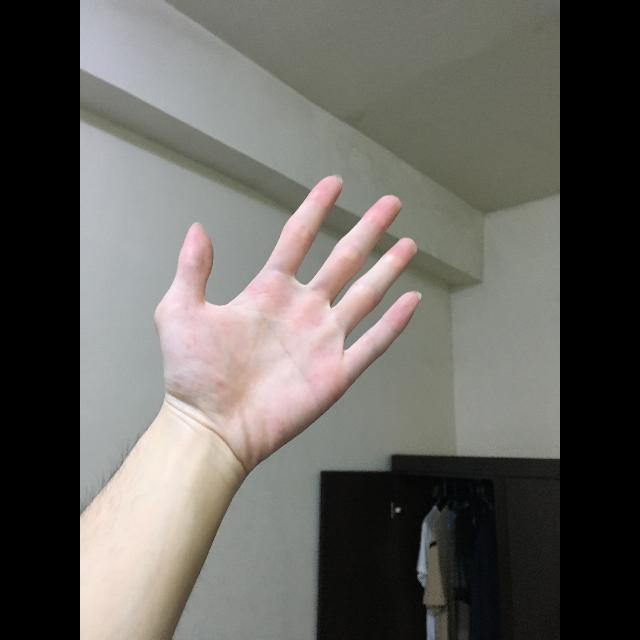bare_hand: (147, 174, 421, 474)
